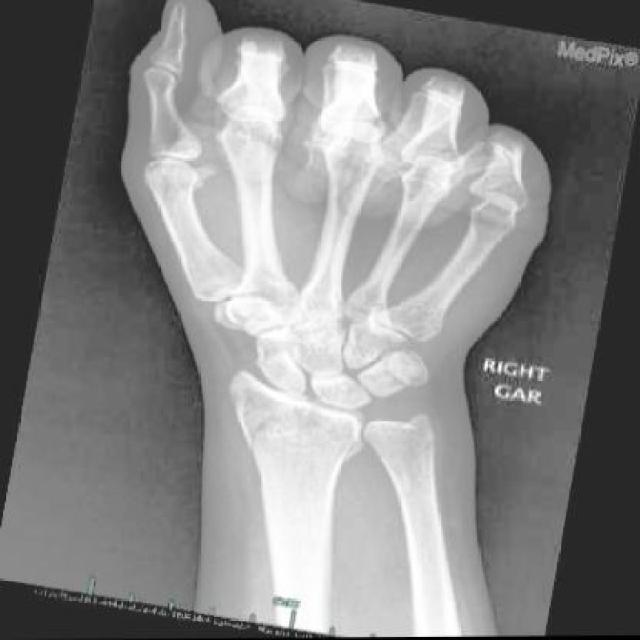Fracture: (239, 402, 364, 472)
